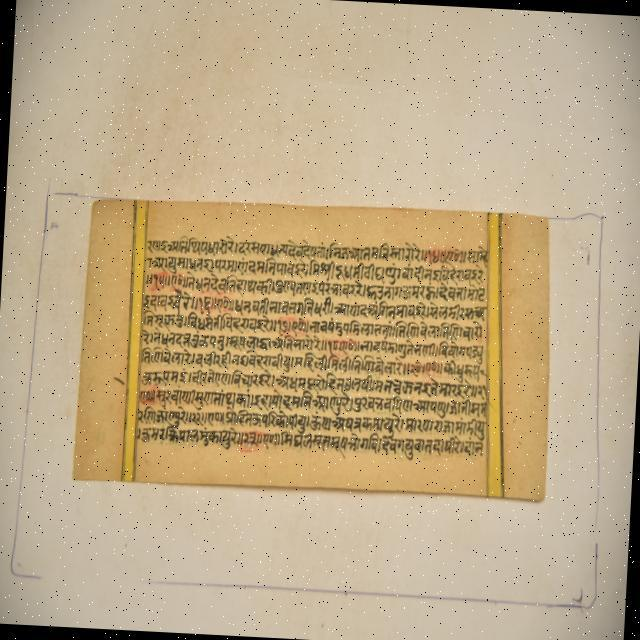text_paragraph: (73, 202, 548, 499)
